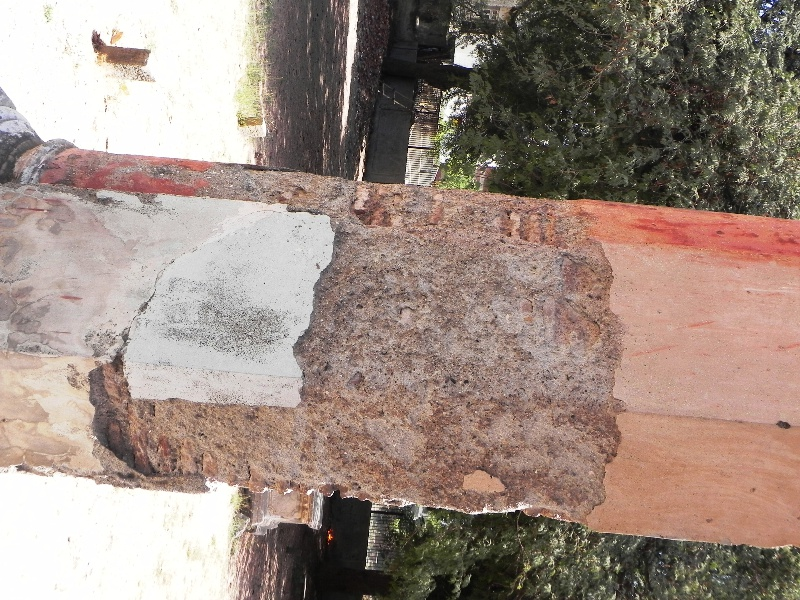Spalling: (292, 179, 623, 534), (68, 352, 288, 499)
